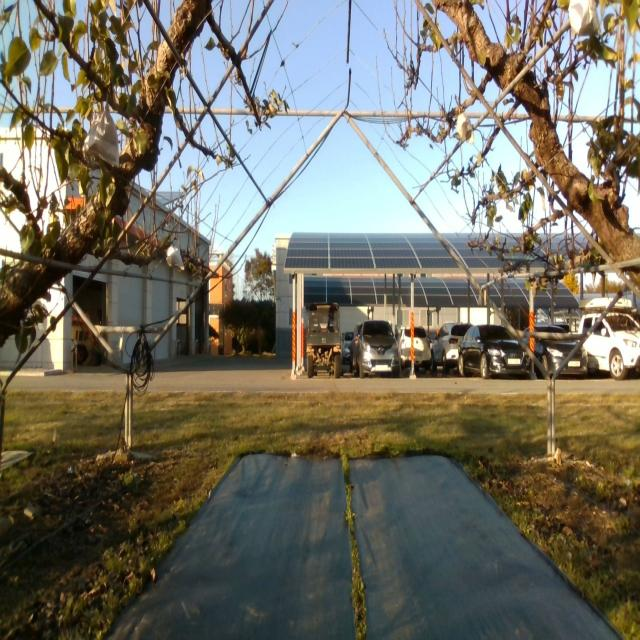pearbags: (82, 104, 120, 167), (569, 0, 602, 34), (456, 114, 474, 144), (166, 246, 185, 271)
